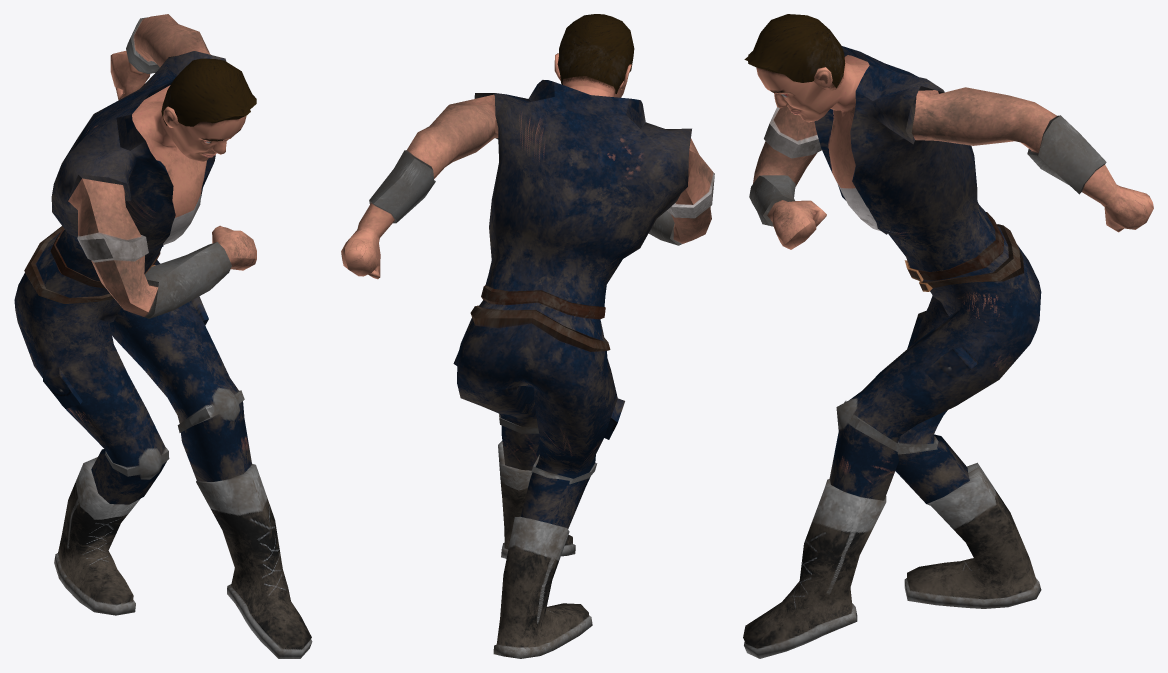
File: Anim_dash_jugador.0020.obj
3 views of the same model, side by side, from view 1: azimuth 30°, elevation 25°; view 2: azimuth 150°, elevation 25°; view 3: azimuth 270°, elevation 25° (orthographic). The views are drawn at different scales.
Parts seen in each view (by area): view 1: polySurface1; view 2: polySurface1; view 3: polySurface1.
Part boxes in pixels (<box>): polySurface1: <box>14,14,312,658</box>; polySurface1: <box>341,14,714,658</box>; polySurface1: <box>743,14,1153,658</box>.
Bounding box in the file's own units: 3.25 × 8.25 × 5.08.
